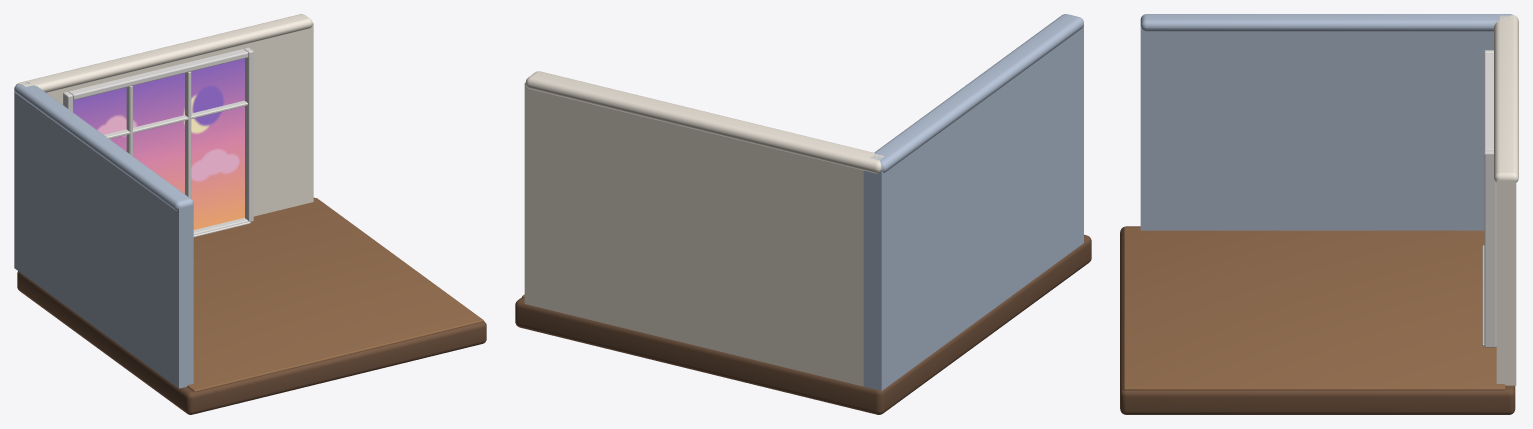
The model's file is room_shell.glb.
The picture shows the model from 3 angles, left to right: view 1: azimuth 30°, elevation 25°; view 2: azimuth 150°, elevation 25°; view 3: azimuth 270°, elevation 25°; orthographic projection. The views are drawn at different scales.
Visible parts, largest first — view 1: room_senior_WallAccent, room_senior_Floor, room_senior_Wall, room_senior_SkyTex, room_senior_Slab, room_senior_Frame; view 2: room_senior_Wall, room_senior_WallAccent, room_senior_Slab; view 3: room_senior_WallAccent, room_senior_Floor, room_senior_Slab, room_senior_Wall, room_senior_Frame.
Part boxes in pixels (x1,y1,x2,y2): room_senior_WallAccent: (14, 82, 193, 388); room_senior_Floor: (187, 198, 483, 392); room_senior_Wall: (16, 14, 313, 216); room_senior_SkyTex: (73, 58, 244, 229); room_senior_Slab: (17, 197, 486, 414); room_senior_Frame: (63, 47, 253, 236); room_senior_Wall: (524, 71, 884, 386); room_senior_WallAccent: (863, 14, 1083, 390); room_senior_Slab: (515, 234, 1091, 414); room_senior_WallAccent: (1140, 14, 1513, 230); room_senior_Floor: (1123, 227, 1505, 390); room_senior_Slab: (1120, 226, 1515, 414); room_senior_Wall: (1494, 15, 1518, 385); room_senior_Frame: (1482, 50, 1496, 347).
Size of the model in its own units: 4.49 by 2.94 by 4.49.
Materials: 6 (1 with a texture image).
